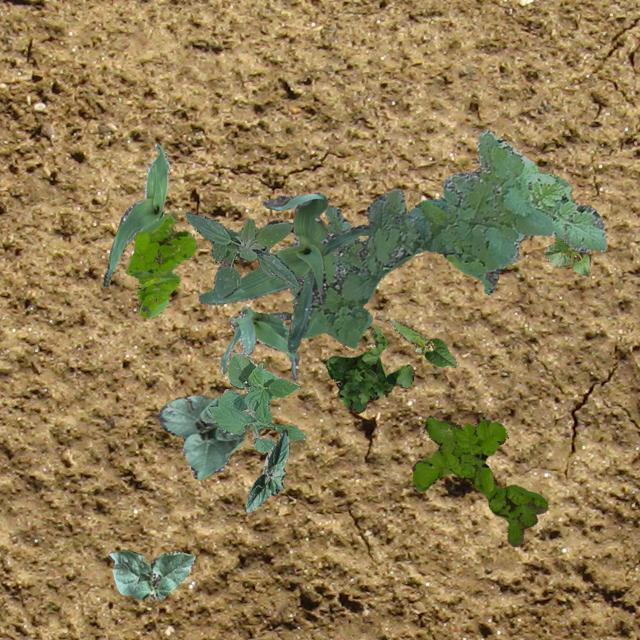crop: (198, 192, 372, 352), (208, 349, 306, 452), (102, 142, 168, 286), (158, 394, 245, 478), (218, 304, 298, 380), (108, 548, 194, 600), (244, 428, 288, 512), (388, 318, 457, 367), (542, 234, 590, 276)
weed: (290, 128, 606, 346), (411, 414, 546, 546), (183, 210, 300, 298), (322, 324, 413, 412), (126, 210, 196, 316)
